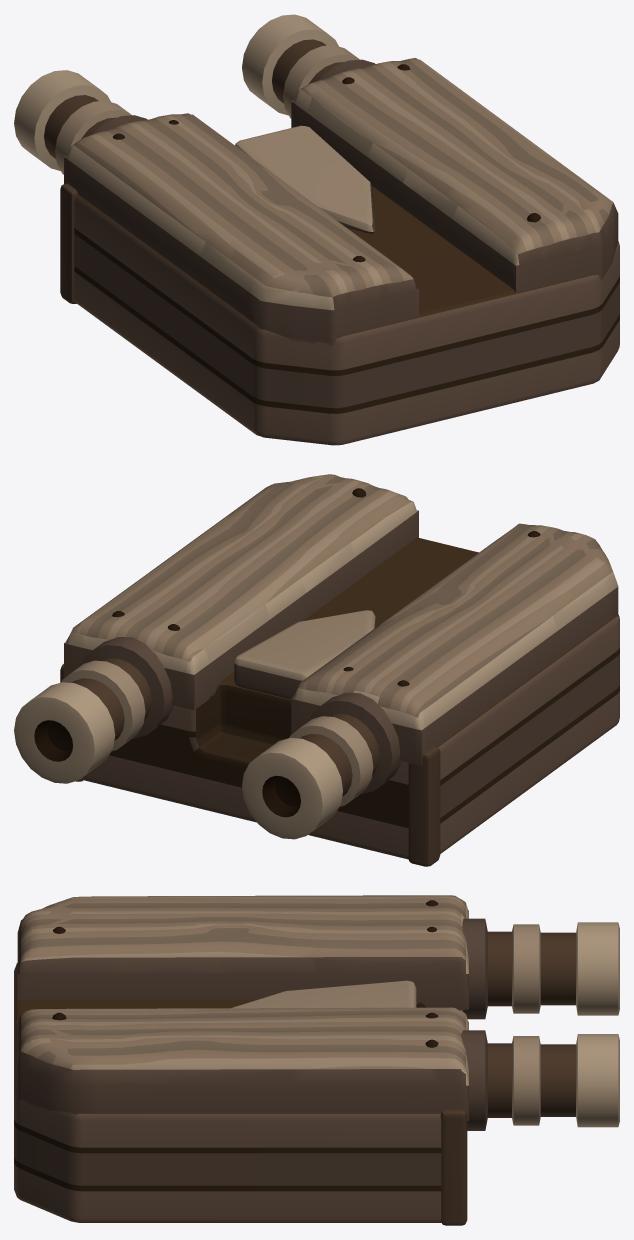
File: plank_turret.glb
3 views of the same model, one above another, from view 1: azimuth 30°, elevation 25°; view 2: azimuth 150°, elevation 25°; view 3: azimuth 270°, elevation 25° (orthographic).
Visible parts, largest first — view 1: plank_turret; view 2: plank_turret; view 3: plank_turret.
Boxes of the visible parts, bbox=[...] form: plank_turret: bbox=[14, 14, 619, 445]; plank_turret: bbox=[14, 474, 619, 866]; plank_turret: bbox=[14, 895, 619, 1225].
Size of the model in its own units: 13.74 by 5.86 by 19.35.
